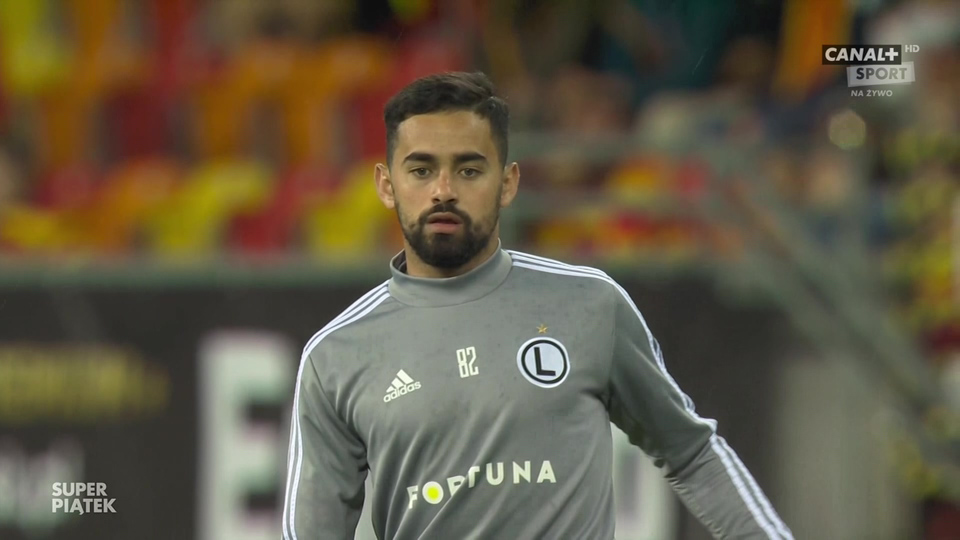Adidas: (379, 368, 424, 403)
